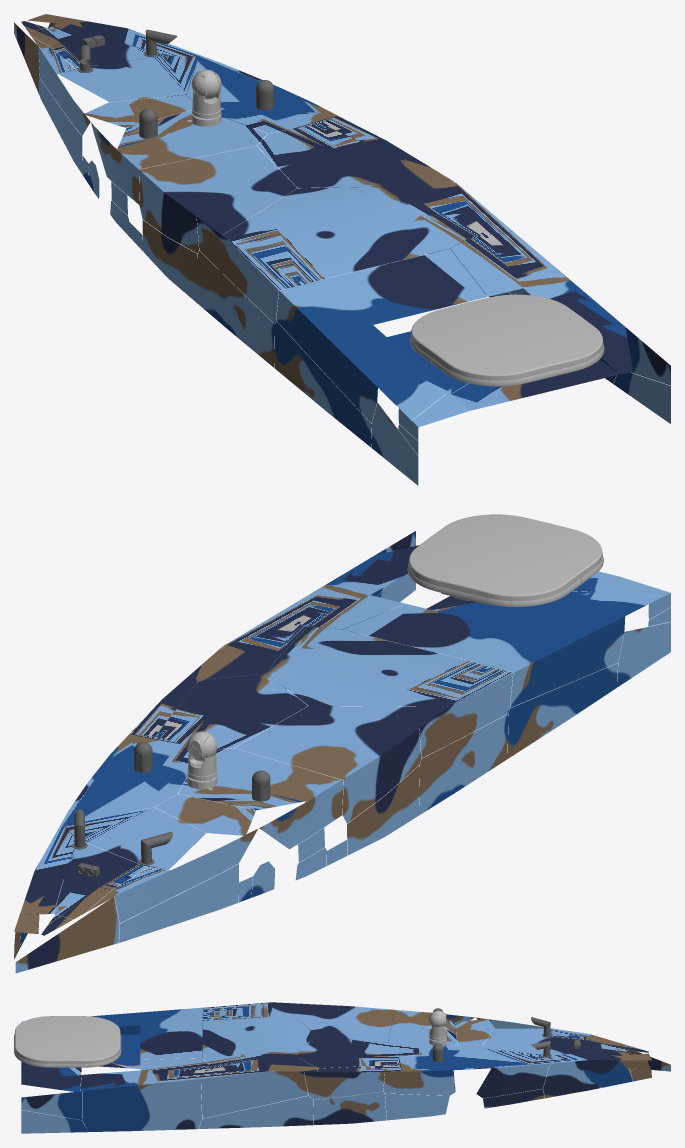
File: Debris.fbx
The picture shows the model from 3 angles, top to bottom: view 1: azimuth 30°, elevation 25°; view 2: azimuth 150°, elevation 25°; view 3: azimuth 270°, elevation 25°; orthographic projection. The views are drawn at different scales.
Visible parts, largest first — view 1: chitiet, thantau.001_cell.011, thantau.001_cell.020, thantau.001_cell.017, thantau.001_cell.005, thantau.001_cell.003, thantau.001_cell.022, thantau.001_cell, thantau.001_cell.015, thantau.001_cell.001, thantau.001_cell.018, thantau.003_cell.006 (+17 smaller); view 2: chitiet, thantau.001_cell.011, thantau.001_cell.020, thantau.001_cell.017, thantau.001_cell.005, thantau.001_cell.015, thantau.001_cell.003, thantau.001_cell, thantau.003_cell.006, thantau.001_cell.001, thantau.003_cell.003, thantau.003_cell.004 (+16 smaller); view 3: chitiet, thantau.002_cell.019, thantau.001_cell.011, thantau.002_cell.004, thantau.001_cell.020, thantau.001_cell.017, thantau.001_cell.005, thantau.001_cell.003, thantau.002_cell.014, thantau.001_cell.015, thantau.002_cell.001, thantau.002_cell.011 (+20 smaller).
Part boxes in pixels (bbox=[...]): chitiet: bbox=[77, 29, 604, 386]; thantau.001_cell.011: bbox=[222, 186, 471, 290]; thantau.001_cell.020: bbox=[280, 249, 487, 420]; thantau.001_cell.017: bbox=[139, 146, 296, 234]; thantau.001_cell.005: bbox=[257, 123, 403, 187]; thantau.001_cell.003: bbox=[450, 231, 619, 326]; thantau.001_cell.022: bbox=[412, 322, 633, 427]; thantau.001_cell: bbox=[117, 110, 267, 169]; thantau.001_cell.015: bbox=[186, 55, 337, 133]; thantau.001_cell.001: bbox=[59, 56, 198, 101]; thantau.001_cell.018: bbox=[381, 159, 512, 236]; thantau.003_cell.006: bbox=[197, 251, 274, 367]; chitiet: bbox=[72, 514, 603, 877]; thantau.001_cell.011: bbox=[266, 627, 513, 706]; thantau.001_cell.020: bbox=[343, 588, 662, 672]; thantau.001_cell.017: bbox=[235, 706, 447, 779]; thantau.001_cell.005: bbox=[155, 673, 307, 749]; thantau.001_cell.015: bbox=[60, 734, 188, 825]; thantau.001_cell.003: bbox=[274, 558, 407, 629]; thantau.001_cell: bbox=[178, 748, 341, 810]; thantau.003_cell.006: bbox=[419, 714, 508, 815]; thantau.001_cell.001: bbox=[63, 807, 205, 869]; thantau.003_cell.003: bbox=[510, 616, 625, 707]; thantau.003_cell.004: bbox=[507, 663, 617, 758]; chitiet: bbox=[14, 1008, 580, 1067]; thantau.002_cell.019: bbox=[82, 1079, 201, 1131]; thantau.001_cell.011: bbox=[202, 1002, 316, 1066]; thantau.002_cell.004: bbox=[201, 1071, 308, 1118]; thantau.001_cell.020: bbox=[91, 1007, 202, 1059]; thantau.001_cell.017: bbox=[278, 1002, 394, 1043]; thantau.001_cell.005: bbox=[292, 1036, 400, 1068]; thantau.001_cell.003: bbox=[80, 1058, 210, 1091]; thantau.002_cell.014: bbox=[543, 1060, 632, 1098]; thantau.001_cell.015: bbox=[397, 1045, 527, 1071]; thantau.002_cell.001: bbox=[199, 1096, 313, 1128]; thantau.002_cell.011: bbox=[313, 1091, 386, 1125].
Bounding box in the file's own units: 151 × 77.92 × 551.
Materials: 1 (1 with a texture image).
